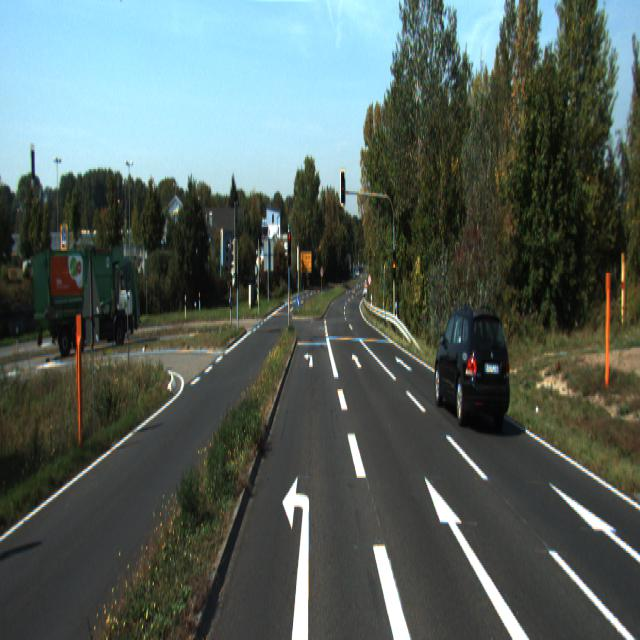Car: (31, 248, 140, 358), (432, 306, 512, 430)
